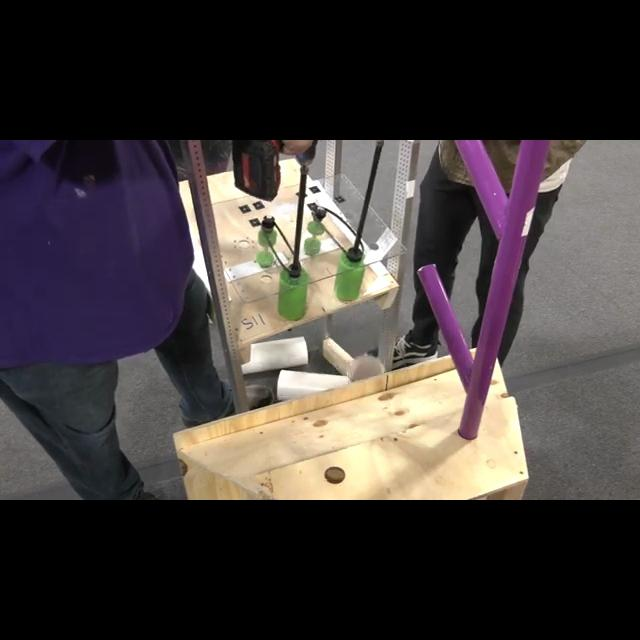CORAL: (242, 337, 308, 375), (277, 370, 349, 400)
